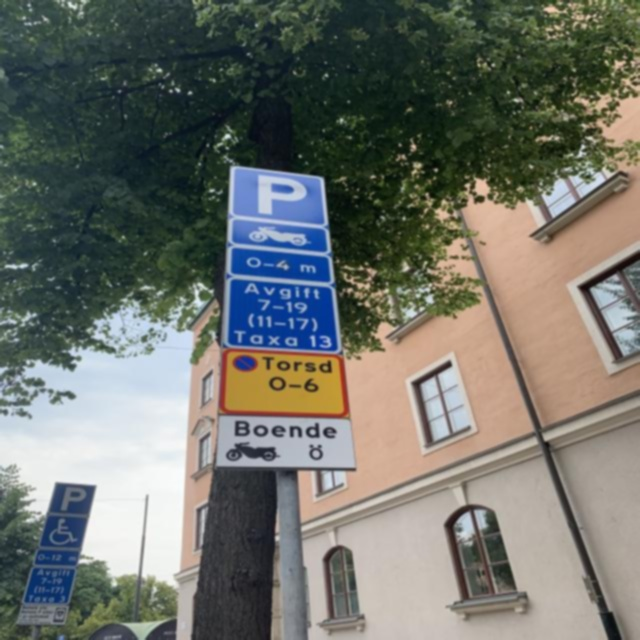P-skylt: (227, 163, 331, 228)
